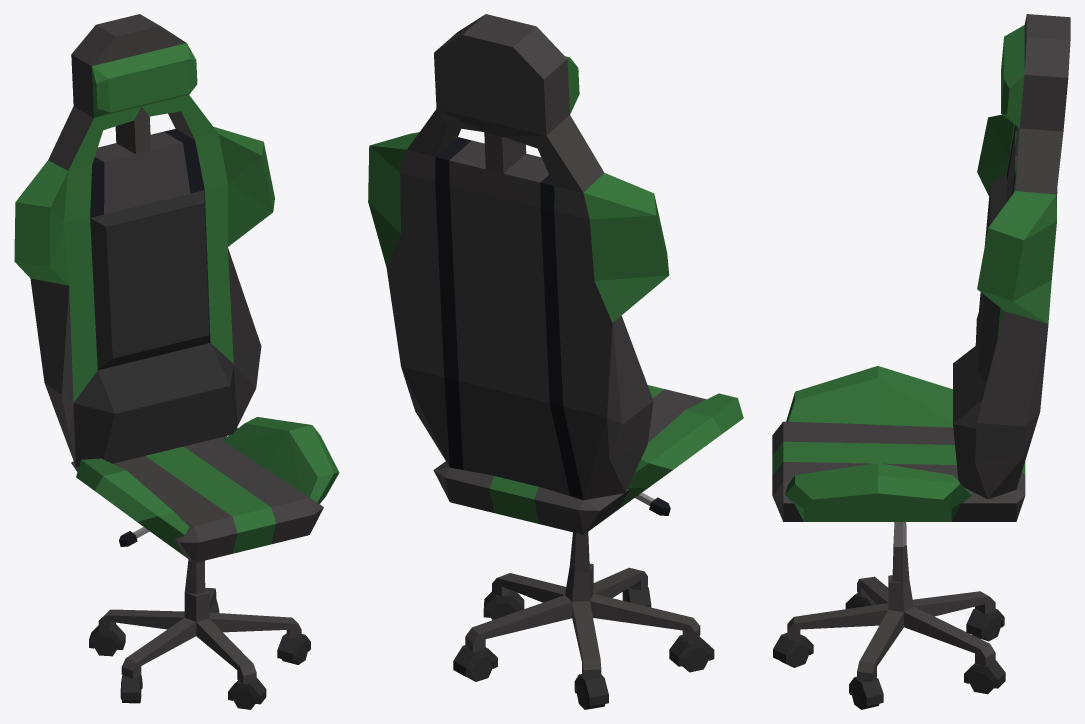
The model's file is furniture-chair-gaming.glb.
3 views of the same model, side by side, from view 1: azimuth 30°, elevation 25°; view 2: azimuth 150°, elevation 25°; view 3: azimuth 270°, elevation 25° (orthographic). The views are drawn at different scales.
Visible parts, largest first — view 1: chair-gaming; view 2: chair-gaming; view 3: chair-gaming.
Boxes of the visible parts, box(x1,y1,x2,y2) form: chair-gaming: box(14, 14, 339, 709); chair-gaming: box(368, 14, 743, 709); chair-gaming: box(772, 14, 1070, 709).
Size of the model in its own units: 0.734 by 1.6 by 0.6783.
